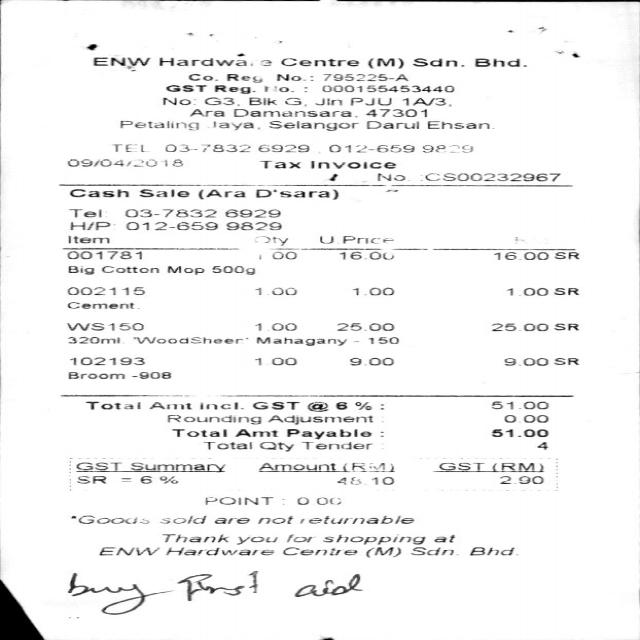text: (257, 462, 391, 471), (432, 462, 541, 472), (266, 414, 371, 424), (268, 119, 356, 130), (423, 173, 559, 180), (231, 108, 349, 116), (166, 414, 259, 424), (129, 462, 222, 472), (66, 158, 181, 166), (321, 534, 423, 543), (320, 84, 451, 91), (298, 515, 412, 523), (165, 546, 272, 554), (285, 428, 369, 438), (157, 56, 250, 65), (254, 188, 337, 198), (118, 119, 196, 129), (122, 208, 214, 216), (125, 221, 216, 229), (254, 336, 344, 344), (308, 160, 394, 168), (132, 336, 246, 342), (492, 251, 577, 259), (163, 143, 247, 151), (65, 286, 143, 294), (279, 57, 356, 65), (92, 56, 148, 67), (64, 322, 141, 330), (76, 516, 153, 524), (68, 356, 143, 364), (317, 235, 390, 243), (66, 250, 139, 258), (281, 546, 354, 554), (322, 73, 405, 80), (335, 475, 393, 485), (505, 286, 577, 294), (300, 440, 370, 448), (332, 144, 411, 151), (133, 187, 187, 197), (203, 496, 270, 504), (67, 187, 126, 196), (160, 533, 226, 541), (66, 300, 131, 308), (425, 120, 487, 128), (363, 108, 424, 116), (195, 188, 243, 198), (97, 546, 157, 554), (249, 399, 296, 409), (74, 460, 121, 470), (399, 96, 449, 105), (223, 208, 279, 216), (489, 322, 545, 330), (489, 428, 545, 436), (119, 475, 175, 483), (224, 221, 279, 229), (67, 370, 122, 378), (337, 250, 391, 258), (170, 428, 224, 436), (255, 286, 298, 296), (411, 58, 462, 66), (473, 58, 524, 66), (212, 120, 257, 129), (489, 401, 545, 408), (83, 401, 138, 408), (422, 144, 470, 152), (210, 265, 252, 274), (150, 401, 192, 410), (202, 440, 249, 448), (158, 515, 205, 523), (352, 286, 393, 295), (347, 357, 392, 365), (468, 546, 512, 554), (366, 57, 401, 67), (66, 335, 116, 342), (364, 546, 399, 556), (502, 357, 545, 365), (233, 428, 276, 436), (409, 546, 452, 554), (256, 144, 305, 151), (335, 323, 392, 329), (348, 96, 390, 104), (101, 265, 156, 271), (257, 440, 290, 450), (254, 251, 295, 259), (164, 265, 200, 274), (258, 159, 298, 167), (68, 221, 108, 229), (67, 234, 107, 242), (234, 536, 274, 544), (213, 84, 252, 92), (364, 121, 416, 127), (226, 72, 260, 81), (502, 414, 545, 421), (498, 476, 541, 483), (198, 401, 240, 408), (164, 84, 204, 91), (253, 357, 293, 364), (202, 96, 236, 104), (67, 208, 100, 216), (365, 336, 398, 344), (110, 143, 142, 151), (296, 497, 338, 503), (253, 323, 293, 329), (258, 84, 292, 91), (187, 108, 221, 115), (251, 236, 285, 243), (213, 516, 247, 523), (74, 475, 103, 483), (130, 371, 168, 377), (67, 265, 92, 274), (247, 96, 274, 104), (162, 96, 188, 104), (256, 516, 290, 522), (305, 400, 325, 410), (376, 172, 404, 179), (285, 533, 309, 541), (554, 356, 576, 364), (354, 400, 370, 411), (314, 97, 339, 104), (186, 73, 215, 79), (432, 533, 452, 541), (275, 73, 297, 80), (333, 400, 347, 410), (553, 323, 575, 329), (283, 96, 299, 104), (534, 441, 546, 448), (259, 59, 269, 65), (328, 173, 334, 180), (512, 238, 516, 240)
